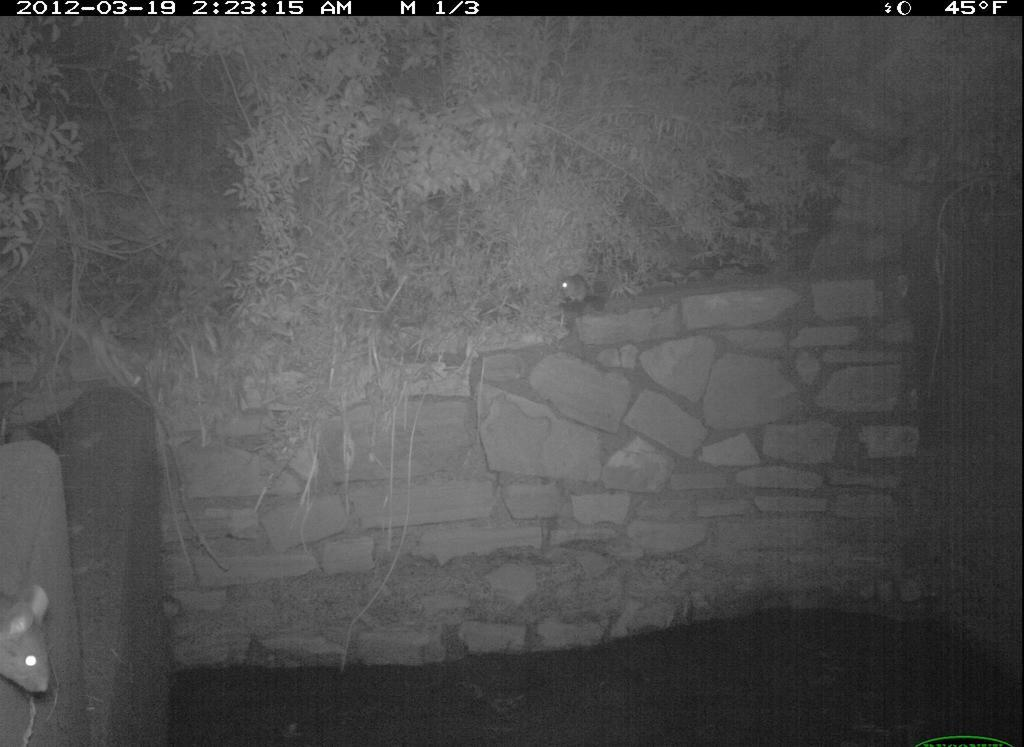rodent: (560, 272, 600, 306)
